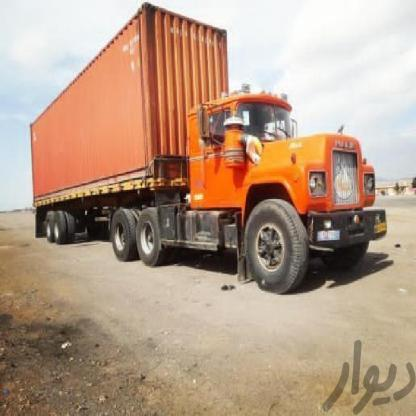Truck: (0, 1, 400, 290)
